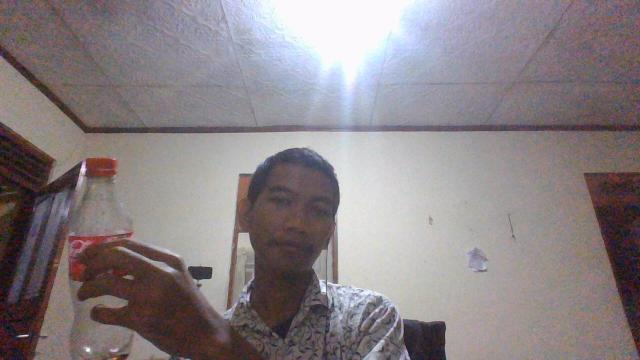coca-cola: (65, 156, 135, 358)
